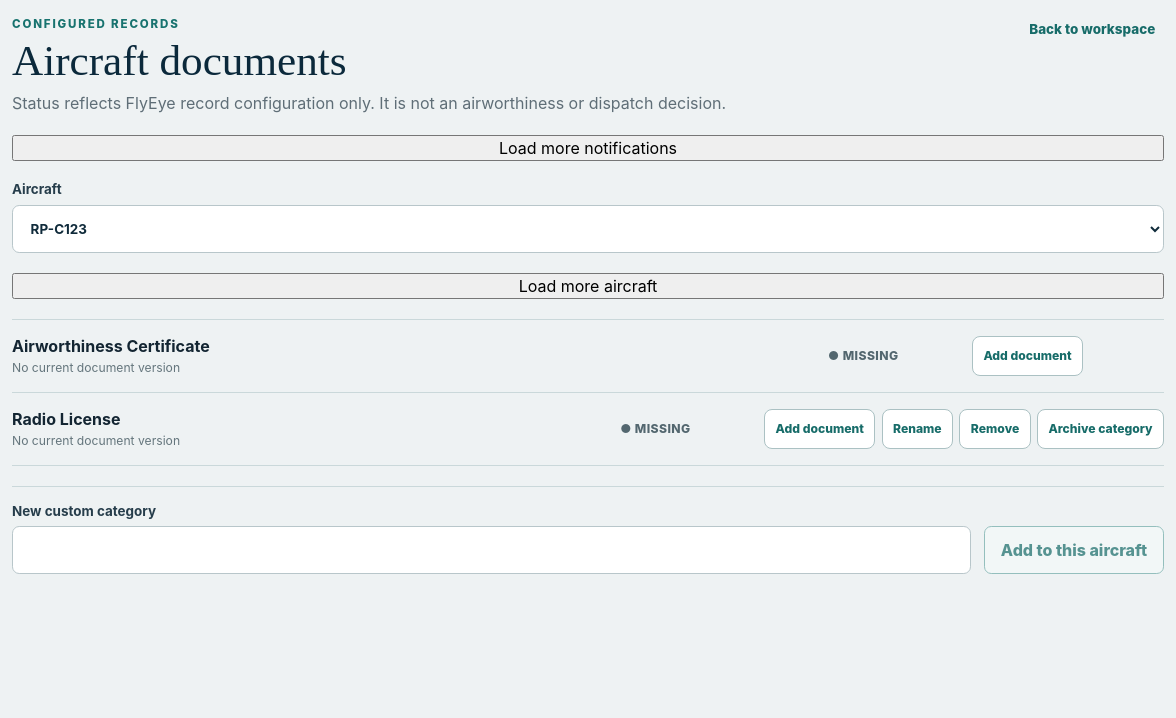
Test: AircraftDocumentsPanel › loads later pages and edits the notification aircraft with Correct
The width and height of the screenshot is (1176, 718).
Check: the text "Radio License" is shown, box [12,409,120,429]
Step 1. Click the button "Load more aircraft" → (588, 286), box [12,273,1164,299]
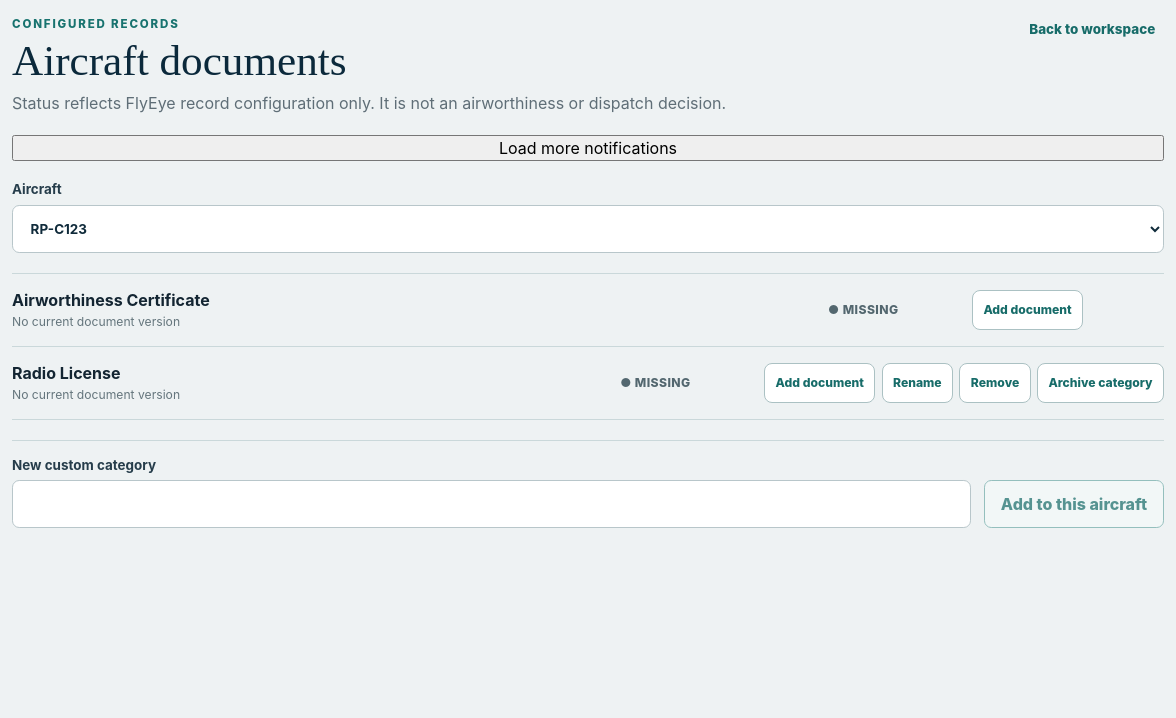
Check: the button "Load more aircraft" is gone
Step 2. Click the button "Load more notifications" → (588, 148), box [12,135,1164,161]
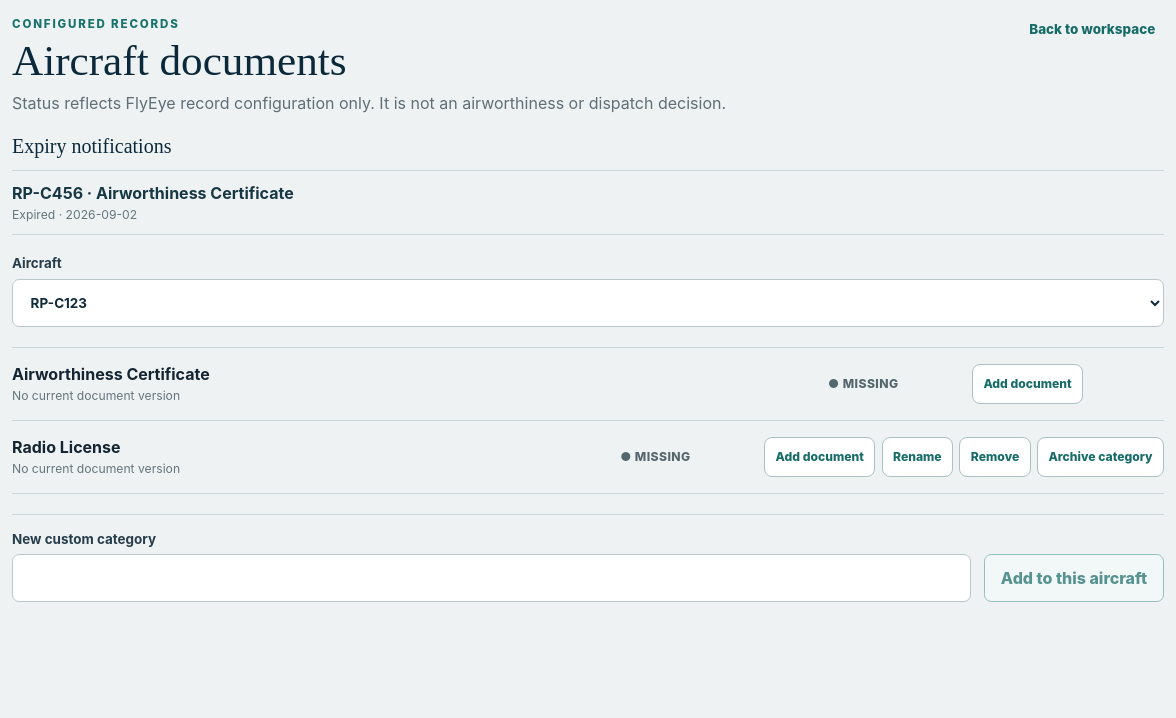
Step 3. Click the button "RP-C456 · Airworthiness Certificate Expired · 2026-09-02" → (48, 193), box [12,171,1164,235]
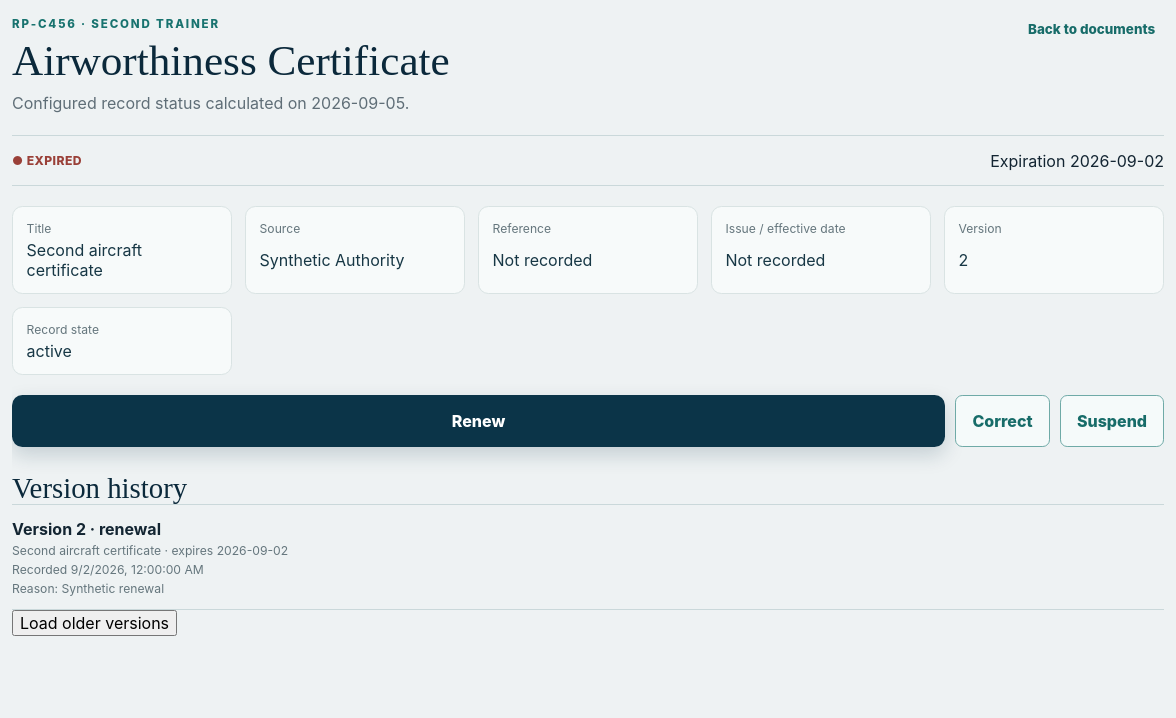
Check: the text "Second aircraft certificate" is shown, box [27,240,142,280]
Step 4. Click the button "Load older versions" → (94, 623), box [12,610,177,636]
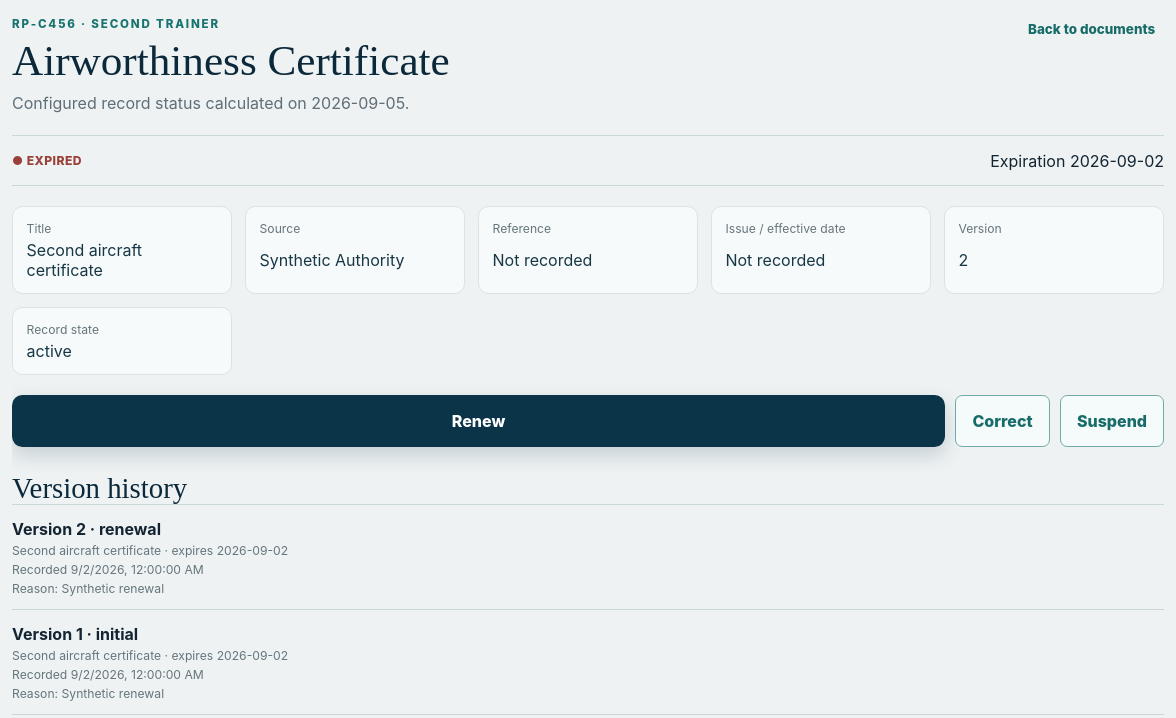
Check: the text "Version 1 · initial" is shown, box [12,624,138,644]
Check: the button "Load older versions" is gone
Step 5. Click the button "Correct" → (1002, 421), box [955,395,1050,447]
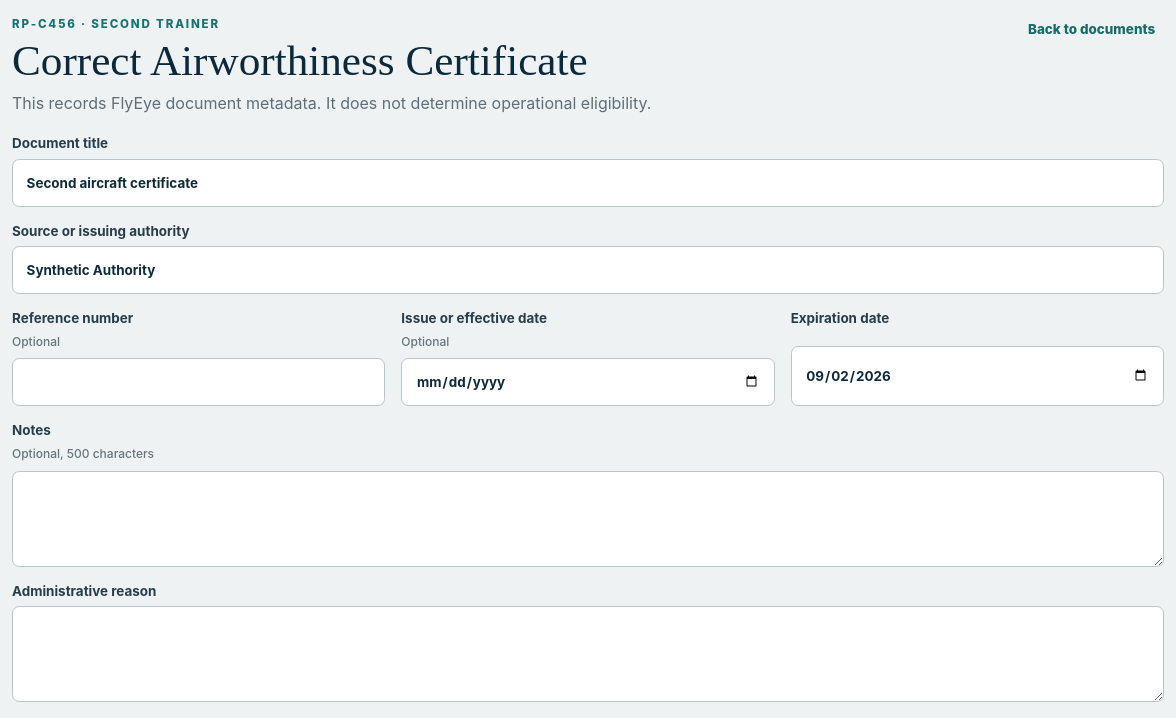
Check: the text "RP-C456 · Second trainer" is shown, box [12,17,220,31]
Check: the field labelled "Document title" holds "Second aircraft certificate", box [12,159,1164,207]
